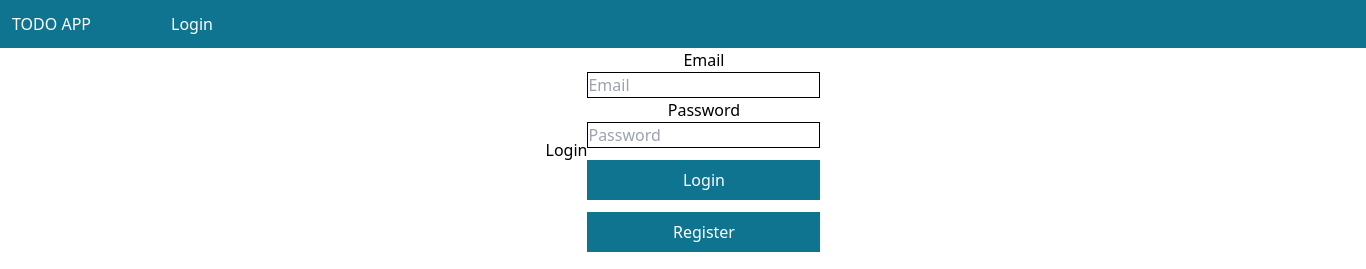
Scenario: login functionality
Type "test@o2.pl" into the field with placeholder "Email".
click(704, 85); type("test@o2.pl")  # box [588, 72, 820, 98]
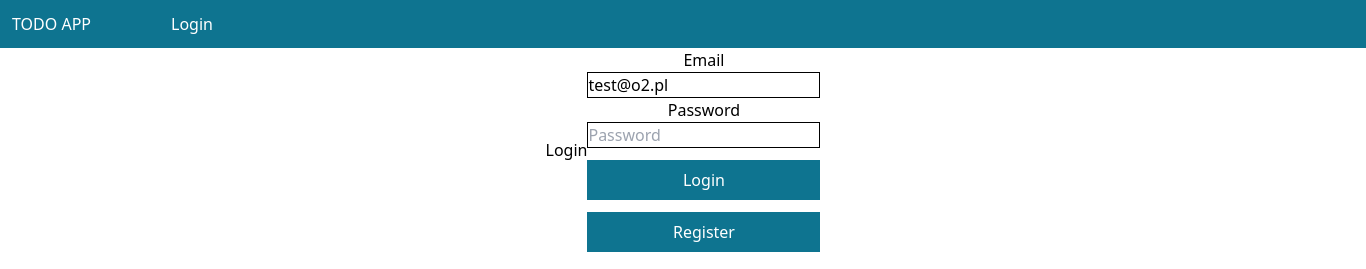
Type "123456" into the password field with placeholder "Password".
click(704, 135); type("123456")  # box [588, 122, 820, 148]
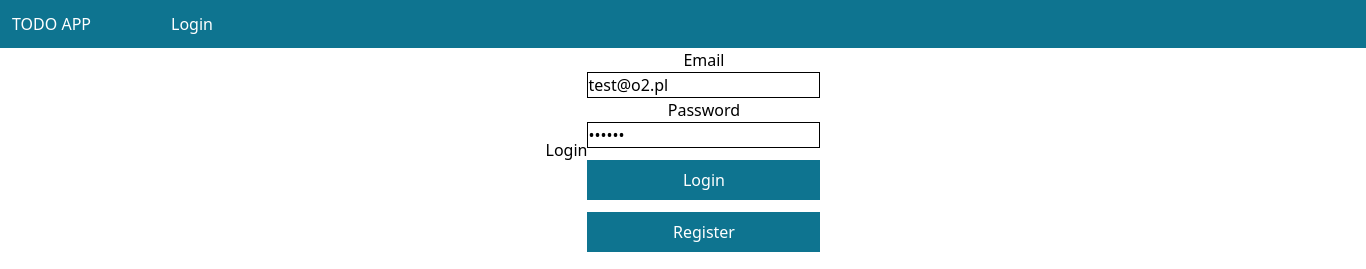
Click the button showing "Login".
click(704, 180)  # box [588, 160, 820, 200]
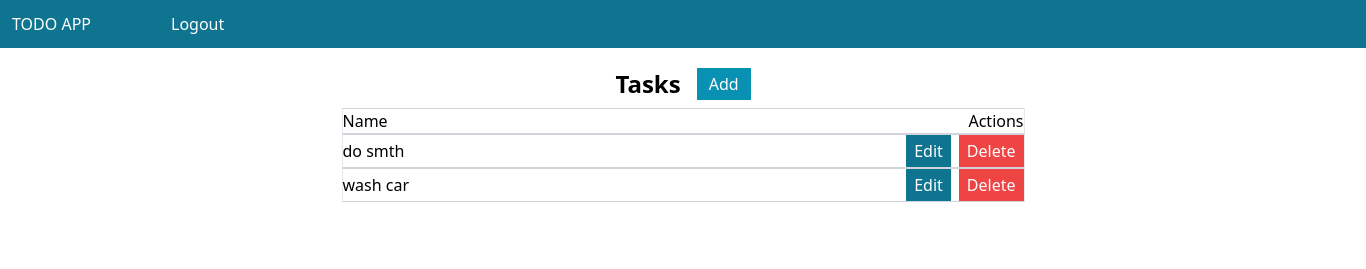
Now the heading "Tasks" is shown, box [615, 68, 681, 100]
